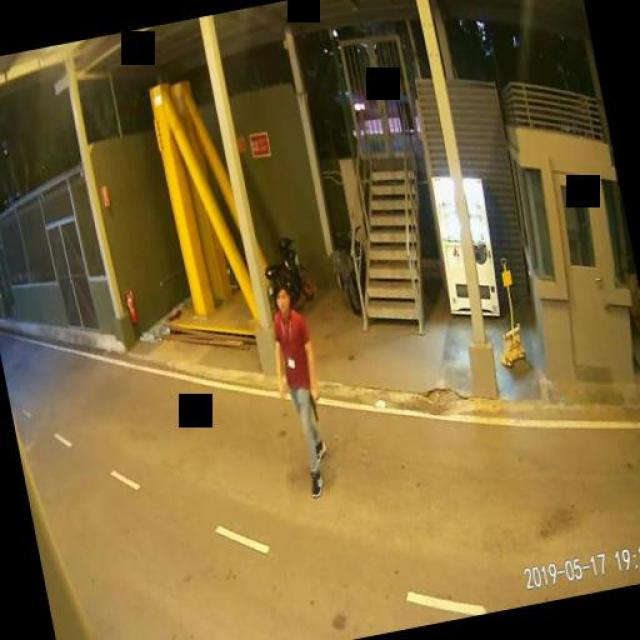gun: (305, 386, 323, 422)
